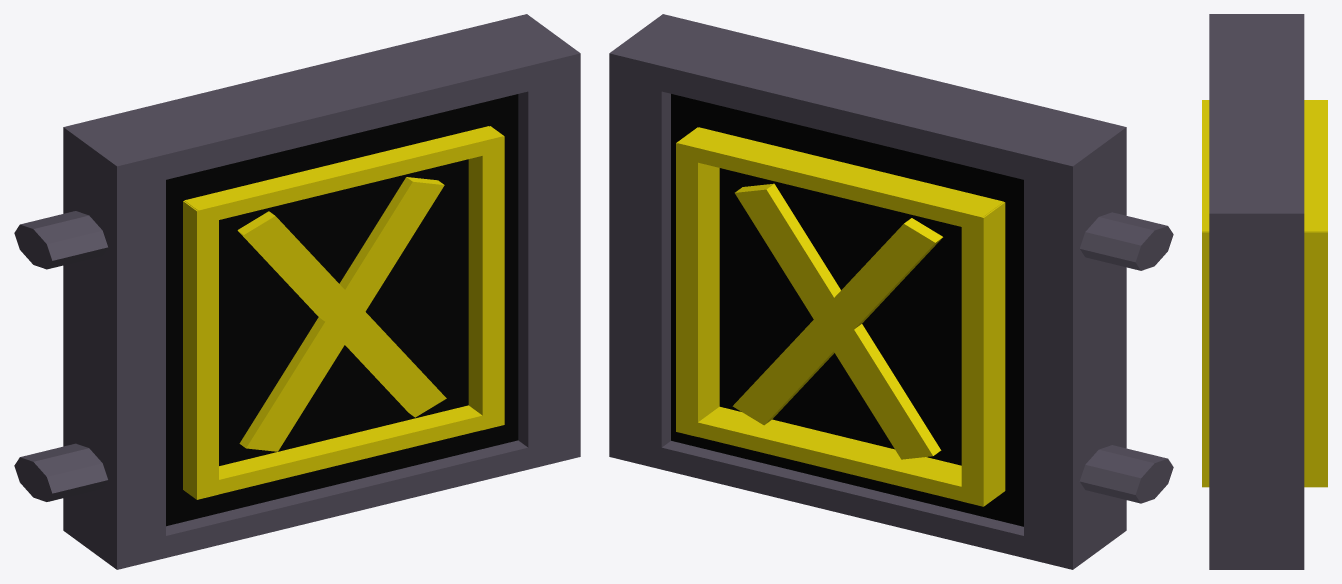
File: Neon_Cross_square.fbx
3 renders of one model, left to right at view 1: azimuth 30°, elevation 25°; view 2: azimuth 150°, elevation 25°; view 3: azimuth 270°, elevation 25°, orthographic. The views are drawn at different scales.
Visible parts, largest first — view 1: NeonSign_Square1, Neon_Cross_square; view 2: NeonSign_Square1, Neon_Cross_square; view 3: NeonSign_Square1, Neon_Cross_square.
Boxes of the visible parts, x1,y1,x2,y2 form: NeonSign_Square1: (14, 14, 580, 569); Neon_Cross_square: (183, 126, 504, 499); NeonSign_Square1: (609, 14, 1173, 569); Neon_Cross_square: (676, 127, 1005, 506); NeonSign_Square1: (1209, 14, 1304, 569); Neon_Cross_square: (1202, 100, 1327, 487).
Size of the model in its own units: 1.12 by 0.8317 by 0.2662.
